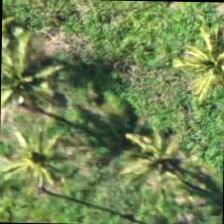Kelapa_Sawit: (102, 119, 194, 210), (0, 120, 90, 213), (0, 30, 49, 122)
